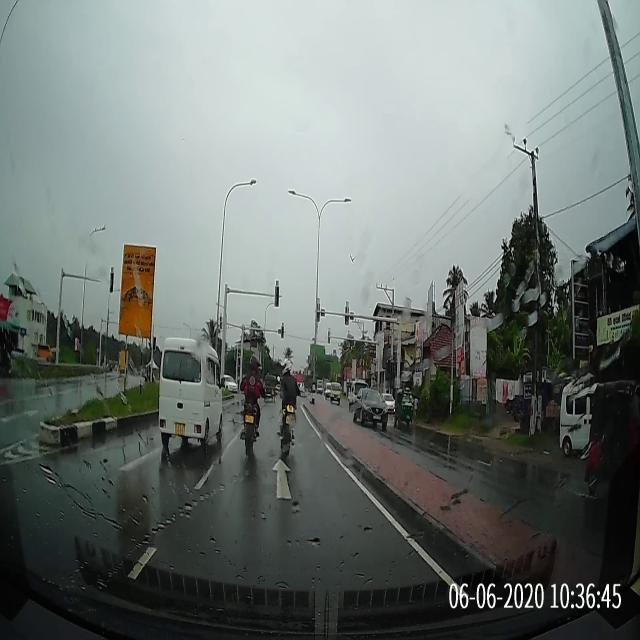forward: (174, 453, 399, 516)
